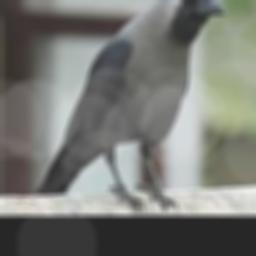Crow: (33, 0, 226, 212)
